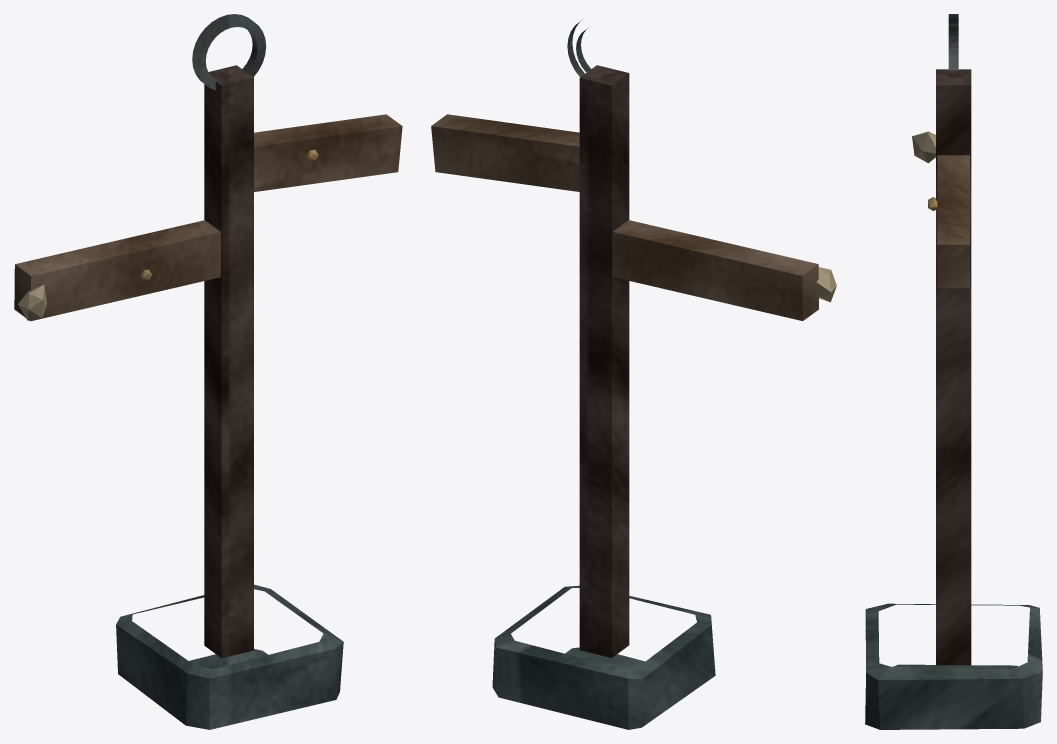
File: 0640_signpost_15.glb
3 views of the same model, side by side, from view 1: azimuth 30°, elevation 25°; view 2: azimuth 150°, elevation 25°; view 3: azimuth 270°, elevation 25° (orthographic).
Parts seen in each view (by area): view 1: wood_dark, wood, stone_dark, iron, bone; view 2: wood_dark, wood, stone_dark; view 3: wood_dark, stone_dark, wood, iron, bone.
Boxes of the visible parts, <box> form: wood_dark: <box>204,65,253,658</box>; wood: <box>14,114,402,321</box>; stone_dark: <box>116,584,343,729</box>; iron: <box>192,14,266,90</box>; bone: <box>18,284,46,320</box>; wood_dark: <box>579,65,629,657</box>; wood: <box>431,114,818,320</box>; stone_dark: <box>492,585,715,729</box>; wood_dark: <box>936,69,971,665</box>; stone_dark: <box>865,603,1042,729</box>; wood: <box>937,155,969,288</box>; iron: <box>948,14,958,70</box>; bone: <box>912,131,935,163</box>.
Bounding box in the file's own units: 1.78 × 2.97 × 0.7042.
6 materials, 6 textured.
